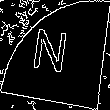N_S: (33, 26, 77, 84)
